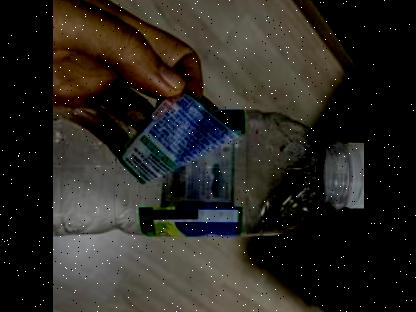Plastic Bottle: (52, 92, 364, 254)
